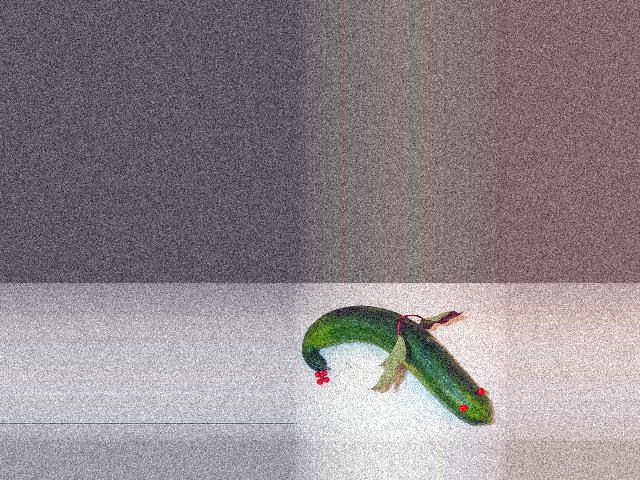cucumber: (301, 305, 491, 425)
